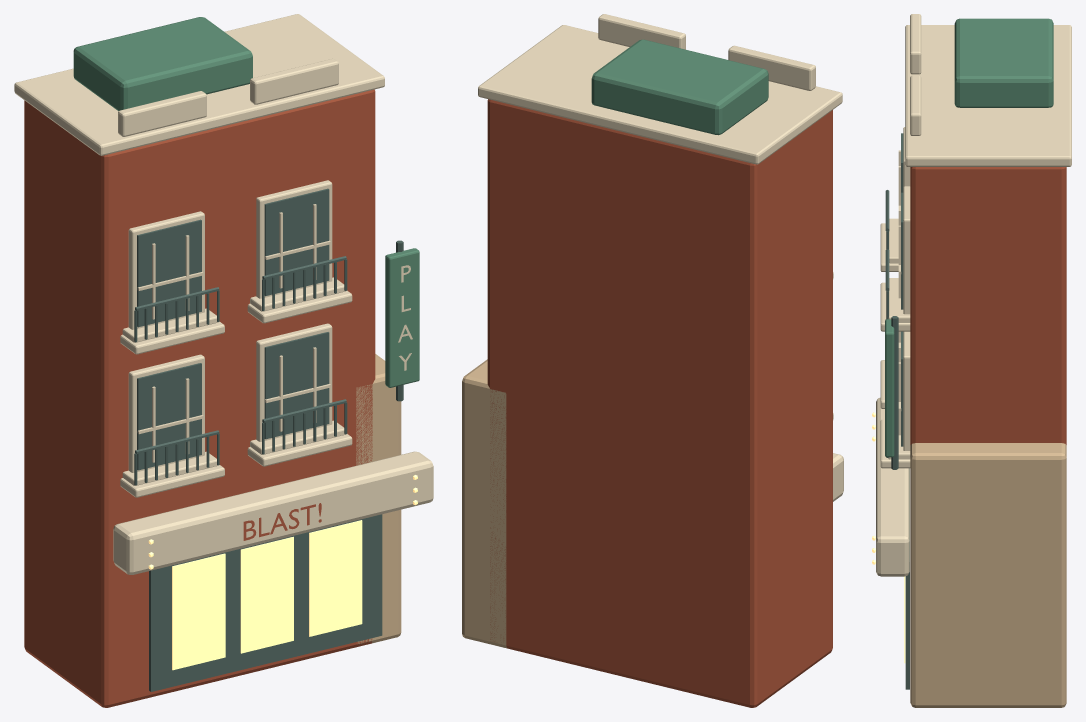
File: tpe3_arcade_apartment_7m.glb
The picture shows the model from 3 angles, left to right: view 1: azimuth 30°, elevation 25°; view 2: azimuth 150°, elevation 25°; view 3: azimuth 270°, elevation 25°; orthographic projection. The views are drawn at different scales.
Visible parts, largest first — view 1: tpe3_arcade_apartment_7m__tpe3-terracotta, tpe3_arcade_apartment_7m__tpe3-ivory, tpe3_arcade_apartment_7m__tpe3-dark-timber, tpe3_arcade_apartment_7m__tpe3-emissive-warm, tpe3_arcade_apartment_7m__tpe3-sage, tpe3_arcade_apartment_7m__tpe3-plaster-cream; view 2: tpe3_arcade_apartment_7m__tpe3-terracotta, tpe3_arcade_apartment_7m__tpe3-ivory, tpe3_arcade_apartment_7m__tpe3-plaster-cream, tpe3_arcade_apartment_7m__tpe3-sage; view 3: tpe3_arcade_apartment_7m__tpe3-terracotta, tpe3_arcade_apartment_7m__tpe3-plaster-cream, tpe3_arcade_apartment_7m__tpe3-ivory, tpe3_arcade_apartment_7m__tpe3-sage, tpe3_arcade_apartment_7m__tpe3-dark-timber.
Part boxes in pixels (bbox=[...]): tpe3_arcade_apartment_7m__tpe3-terracotta: bbox=[24, 89, 375, 707]; tpe3_arcade_apartment_7m__tpe3-ivory: bbox=[14, 14, 433, 574]; tpe3_arcade_apartment_7m__tpe3-dark-timber: bbox=[134, 188, 403, 691]; tpe3_arcade_apartment_7m__tpe3-emissive-warm: bbox=[148, 475, 417, 670]; tpe3_arcade_apartment_7m__tpe3-sage: bbox=[73, 17, 419, 387]; tpe3_arcade_apartment_7m__tpe3-plaster-cream: bbox=[356, 354, 401, 644]; tpe3_arcade_apartment_7m__tpe3-terracotta: bbox=[487, 99, 832, 707]; tpe3_arcade_apartment_7m__tpe3-ivory: bbox=[478, 14, 843, 501]; tpe3_arcade_apartment_7m__tpe3-plaster-cream: bbox=[462, 359, 506, 648]; tpe3_arcade_apartment_7m__tpe3-sage: bbox=[591, 39, 768, 135]; tpe3_arcade_apartment_7m__tpe3-terracotta: bbox=[910, 167, 1066, 445]; tpe3_arcade_apartment_7m__tpe3-plaster-cream: bbox=[910, 443, 1066, 707]; tpe3_arcade_apartment_7m__tpe3-ivory: bbox=[876, 14, 1071, 576]; tpe3_arcade_apartment_7m__tpe3-sage: bbox=[885, 18, 1053, 457]; tpe3_arcade_apartment_7m__tpe3-dark-timber: bbox=[885, 133, 909, 689].
Bounding box in the file's own units: 6.78 × 12.15 × 3.84.
